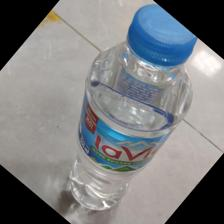Lavie: (69, 1, 199, 215)
